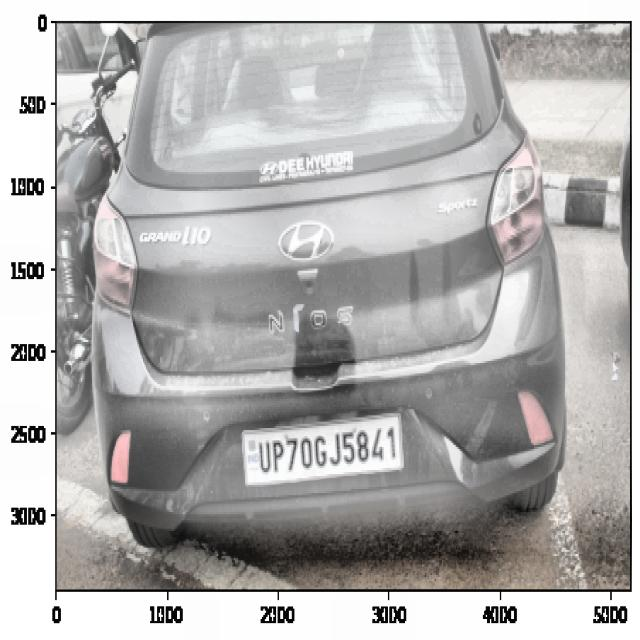license_plate: (252, 420, 402, 478)
